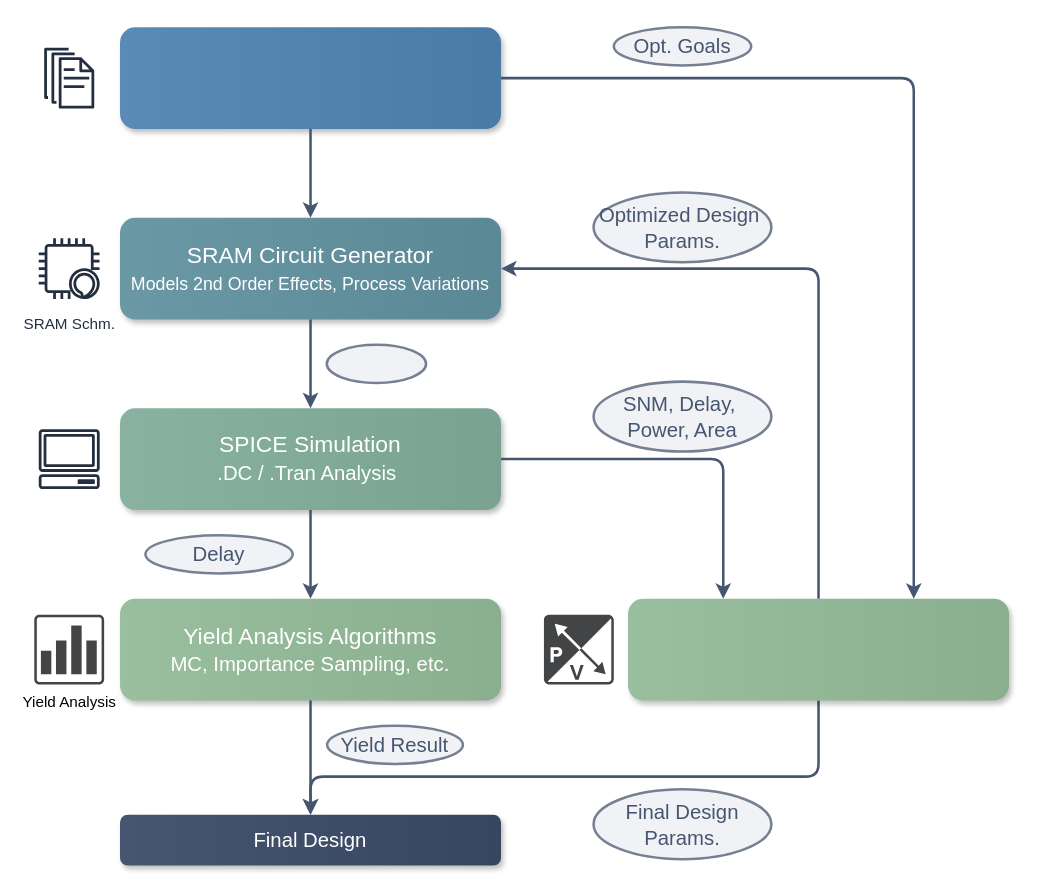
This 1038x895 diagram has some shape labels left out. The shapes that lost their labels are listed below. From the top down, each one's centre as x and y in pixels, then its label:
(68,77): Conf. & PDK
(311,79): User Input SRAM Config., Model Lib, Variation Stats, Opt. Goals
(376,363): Netlist
(68,458): SPICE Sim.
(578,649): Optimization
(819,651): Design Optimization Framework Bayesian Opt., GA, etc. Ajust Design Parameters
